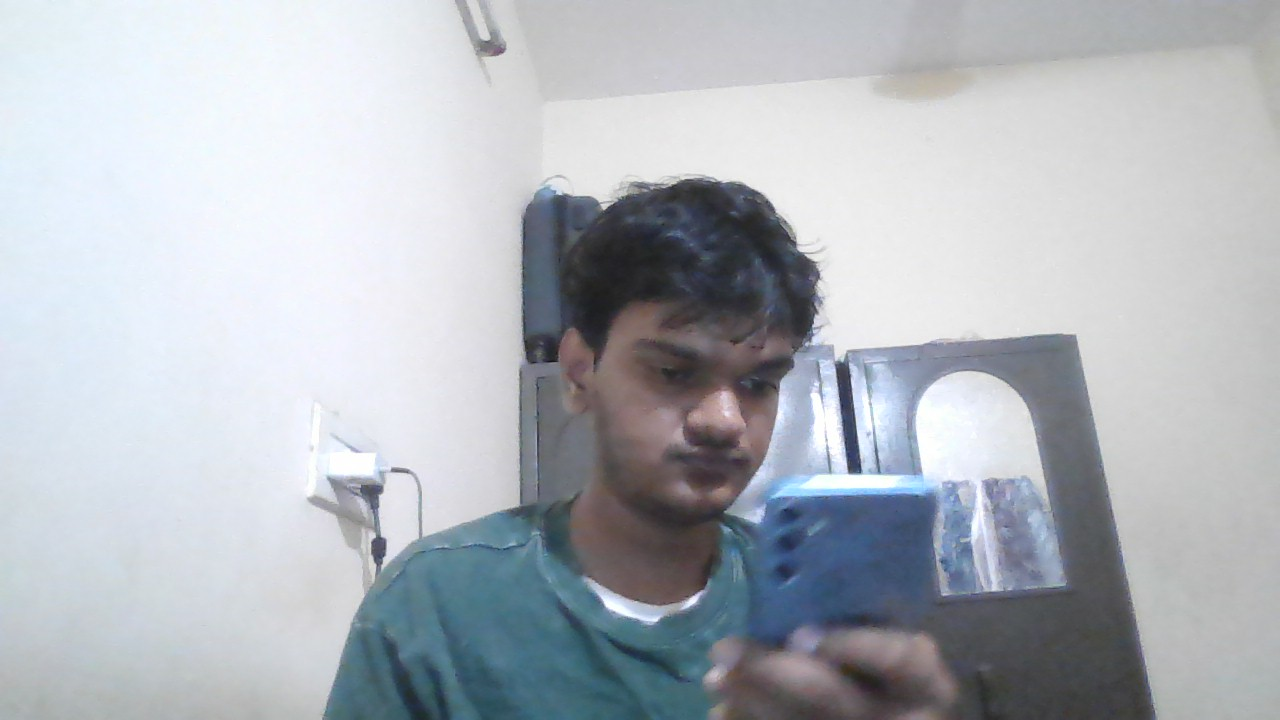phone: (756, 472, 924, 621)
